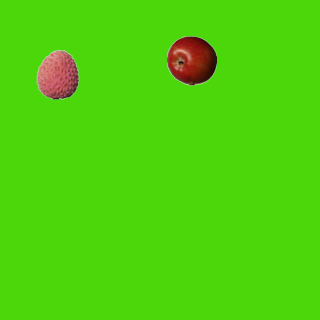Apple Braeburn: (166, 35, 216, 85)
Lychee: (32, 49, 82, 99)
